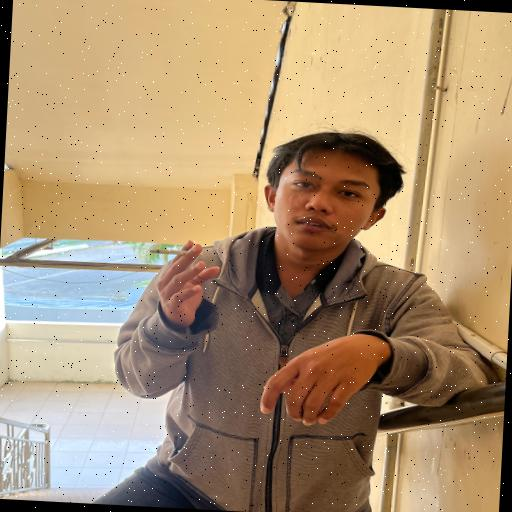pegang rokok: (144, 211, 236, 310)
